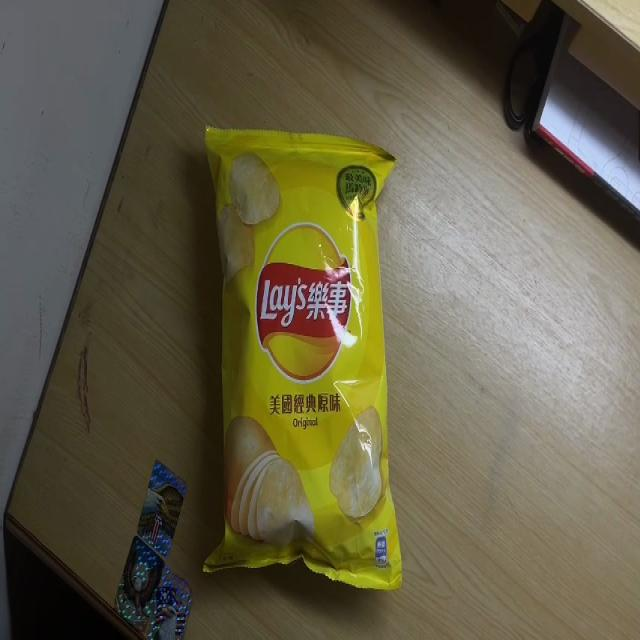Lay-s-original: (201, 122, 402, 598)
